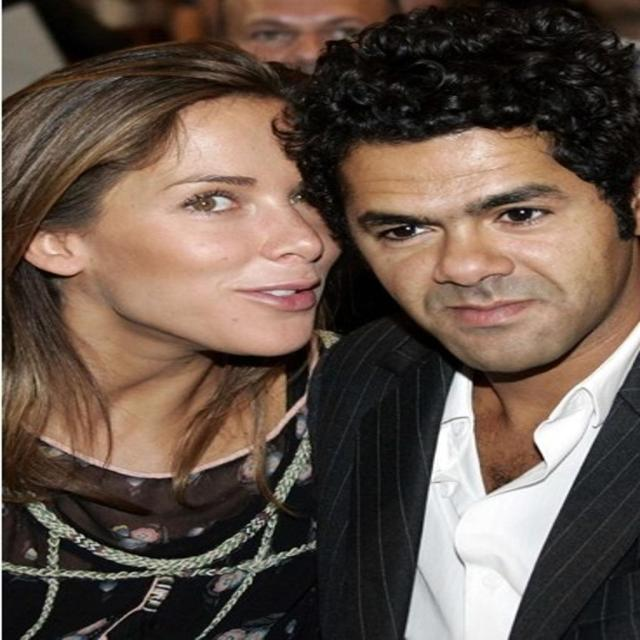Face: (58, 96, 345, 368), (322, 140, 634, 378)
